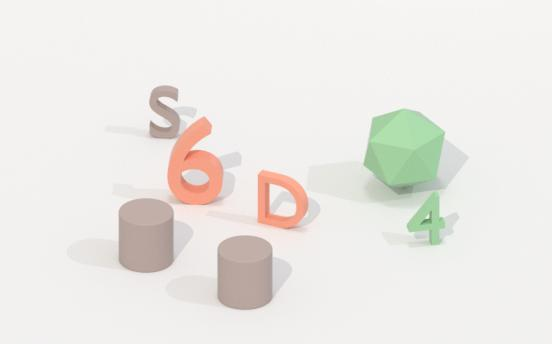4: (401, 190, 450, 247)
6: (166, 115, 227, 205)
d: (253, 169, 313, 230)
dagiac: (359, 109, 449, 188)
s: (146, 83, 184, 141)
tru: (214, 233, 276, 314), (114, 197, 177, 276)
